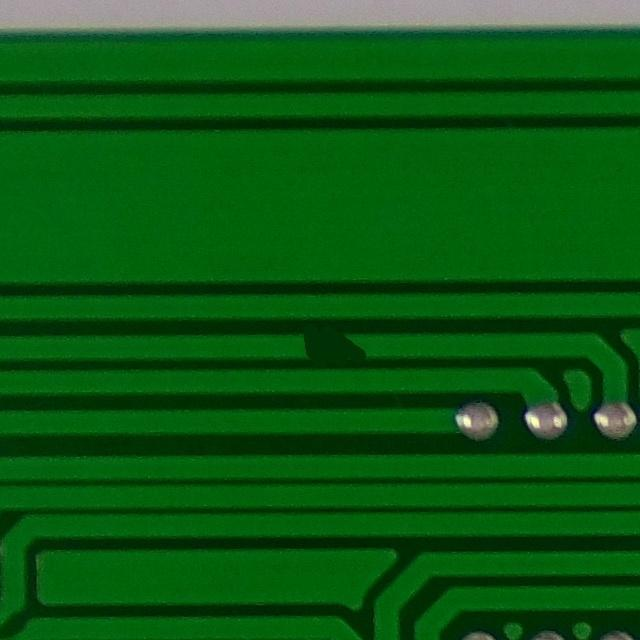open_circuit: (288, 325, 378, 367)
